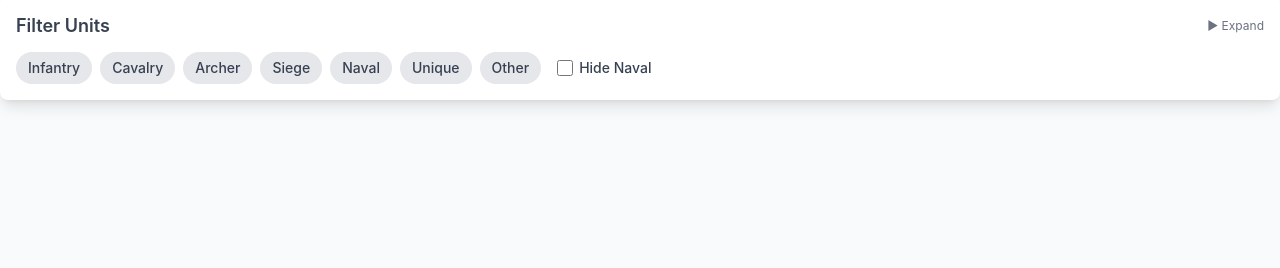
UnitFilter › Collapsible behavior › should show active filter count badge
Click the button "► Expand". click: x=1236, y=26
box: [1207,18,1264,34]
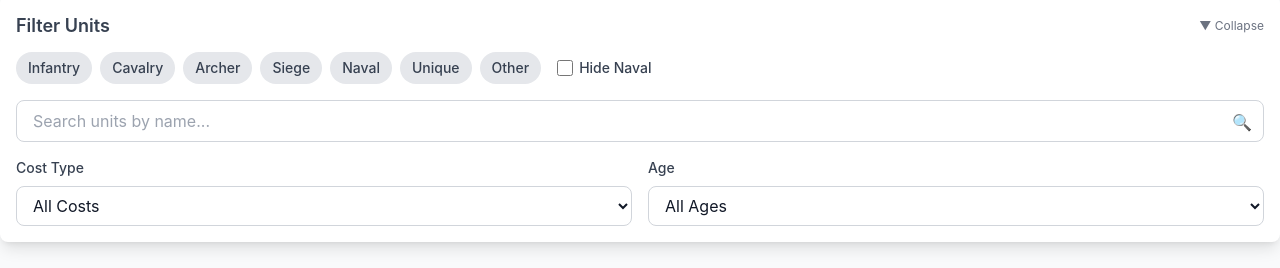
Click the button "Infantry". click: x=54, y=68
box: [16,52,92,84]
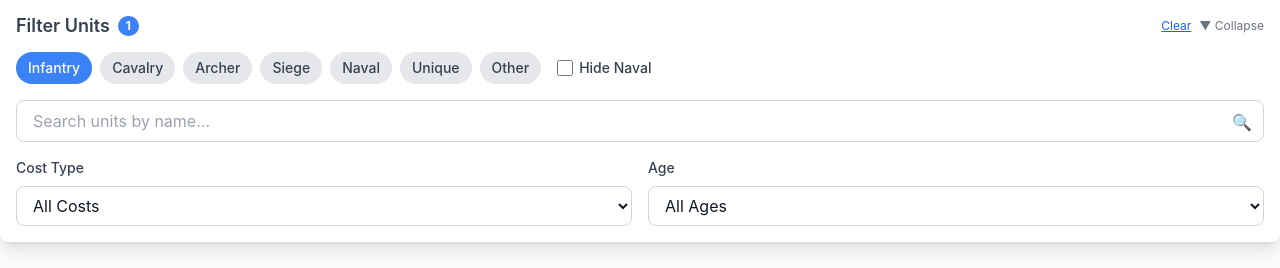
Expected: the text "1" is shown, [118,16,139,36]
